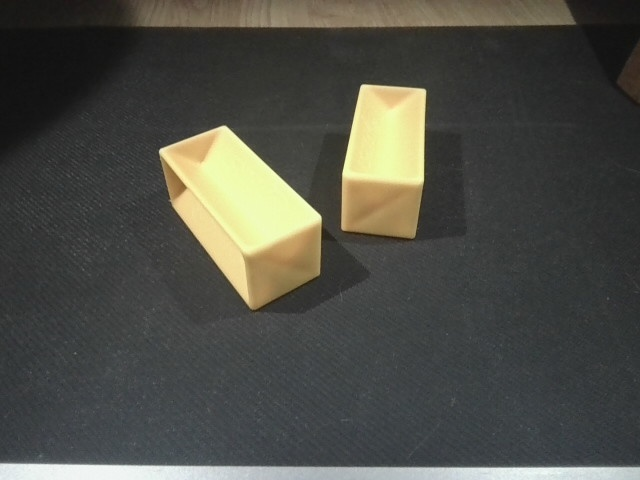YellowSample: (157, 123, 327, 315), (338, 82, 430, 241)
